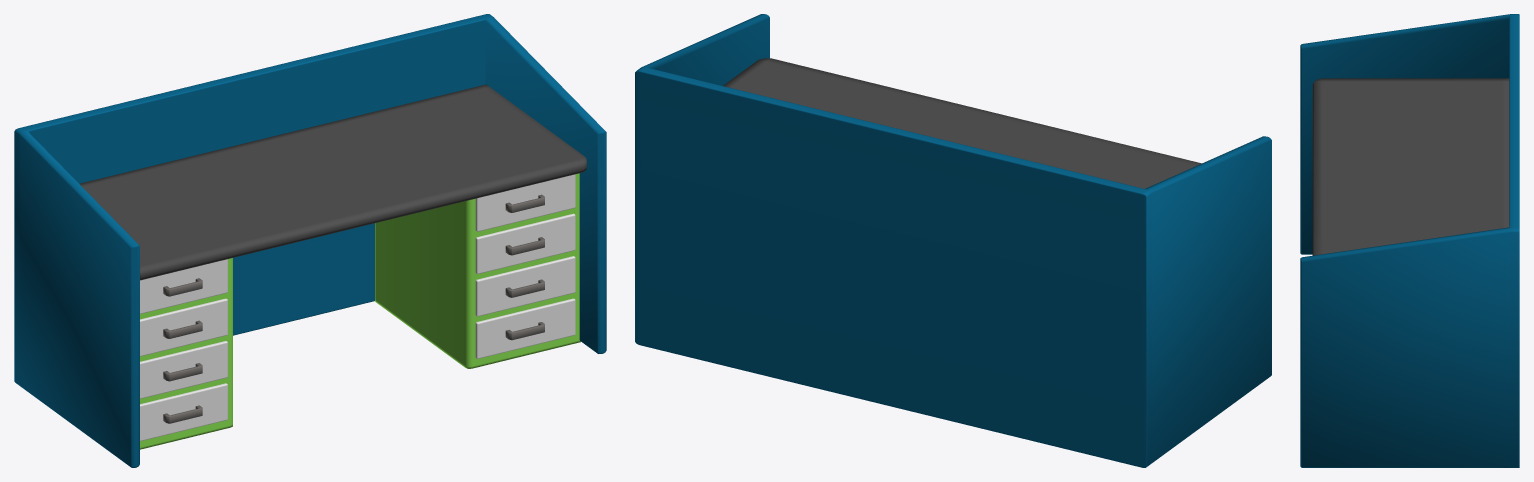
File: EmployeerTable.fbx
3 renders of one model, left to right at view 1: azimuth 30°, elevation 25°; view 2: azimuth 150°, elevation 25°; view 3: azimuth 270°, elevation 25°, orthographic. The views are drawn at different scales.
Parts seen in each view (by area): view 1: EmployeerTable; view 2: EmployeerTable; view 3: EmployeerTable.
Part boxes in pixels (x1=…): EmployeerTable: x1=14, y1=14, x2=606, y2=467; EmployeerTable: x1=635, y1=14, x2=1271, y2=467; EmployeerTable: x1=1300, y1=14, x2=1519, y2=467.
Size of the model in its own units: 416 by 213 by 177.
